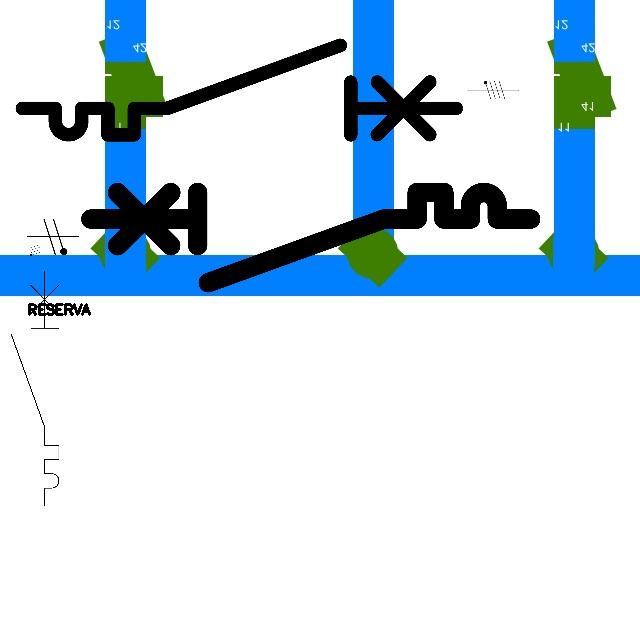interruptor_termomagnetico: (79, 181, 542, 294), (11, 34, 467, 146), (5, 265, 65, 512)
